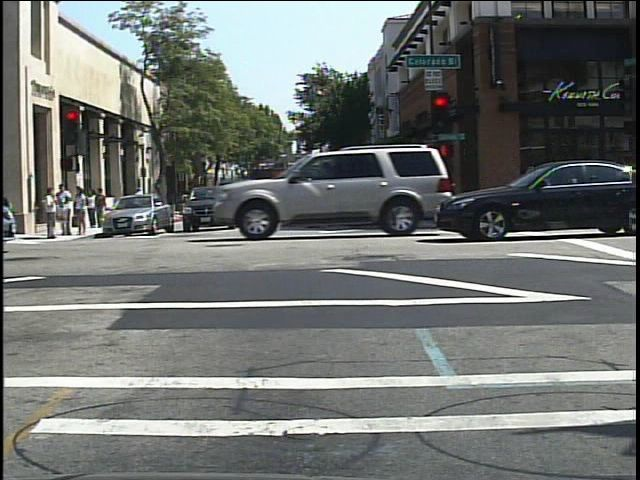person: (177, 182, 194, 217), (132, 185, 147, 218), (87, 187, 98, 230)
